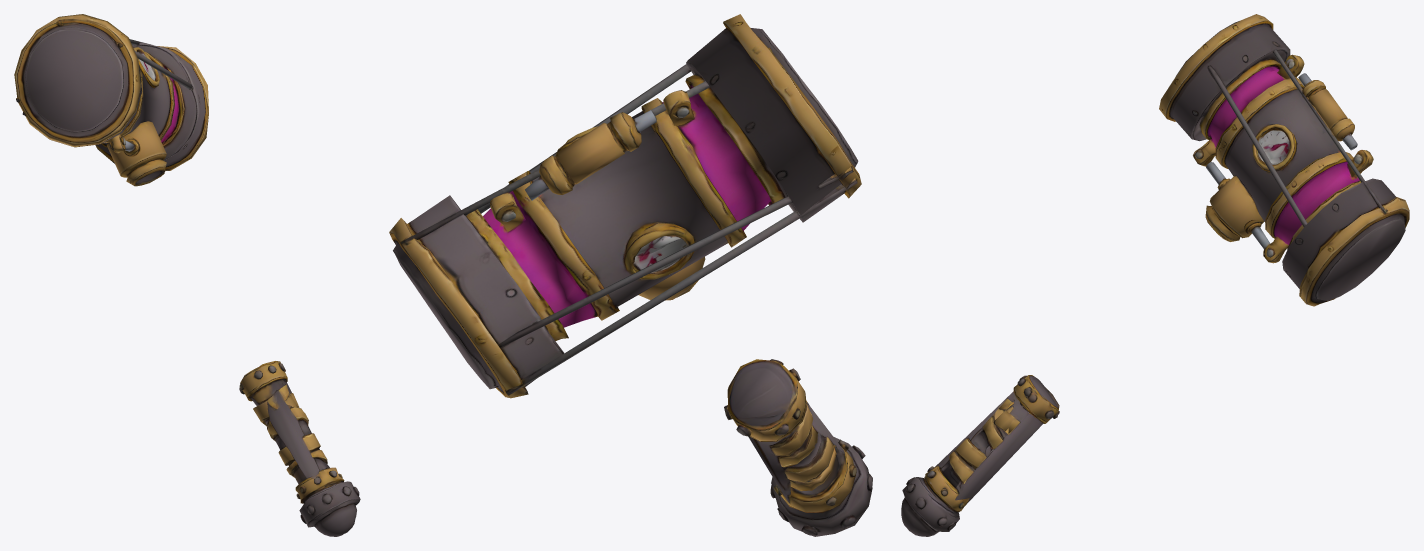
The model's file is warlord_colossus_hammer_tripo.glb.
The picture shows the model from 3 angles, left to right: view 1: azimuth 30°, elevation 25°; view 2: azimuth 150°, elevation 25°; view 3: azimuth 270°, elevation 25°; orthographic projection. The views are drawn at different scales.
Parts seen in each view (by area): view 1: tripo_node_3029839e-afd8-4a1c-901b-af3b4adb0bd6; view 2: tripo_node_3029839e-afd8-4a1c-901b-af3b4adb0bd6; view 3: tripo_node_3029839e-afd8-4a1c-901b-af3b4adb0bd6.
Boxes of the visible parts, x1,y1,x2,y2 form: tripo_node_3029839e-afd8-4a1c-901b-af3b4adb0bd6: [14, 14, 360, 536]; tripo_node_3029839e-afd8-4a1c-901b-af3b4adb0bd6: [389, 14, 872, 536]; tripo_node_3029839e-afd8-4a1c-901b-af3b4adb0bd6: [901, 14, 1409, 536].
Size of the model in its own units: 0.5527 by 0.998 by 0.998.
Materials: 1 (1 with a texture image).
